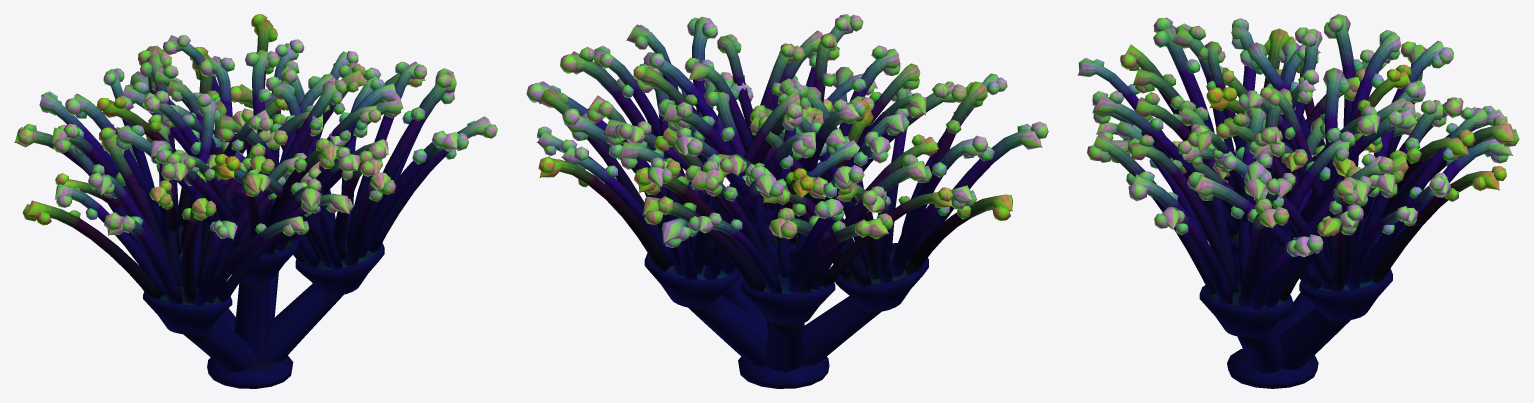
File: reef-euphyllia-branching-frogspawn.glb
3 views of the same model, side by side, from view 1: azimuth 30°, elevation 25°; view 2: azimuth 150°, elevation 25°; view 3: azimuth 270°, elevation 25° (orthographic). The views are drawn at different scales.
Parts seen in each view (by area): view 1: Reef_Euphyllia_Branching_Frogspawn; view 2: Reef_Euphyllia_Branching_Frogspawn; view 3: Reef_Euphyllia_Branching_Frogspawn.
Part boxes in pixels (x1=…): Reef_Euphyllia_Branching_Frogspawn: x1=14, y1=14, x2=497, y2=388; Reef_Euphyllia_Branching_Frogspawn: x1=526, y1=14, x2=1048, y2=388; Reef_Euphyllia_Branching_Frogspawn: x1=1077, y1=14, x2=1519, y2=388.
Bounding box in the file's own units: 0.19 × 0.1207 × 0.156.
2 materials, 2 textured.
